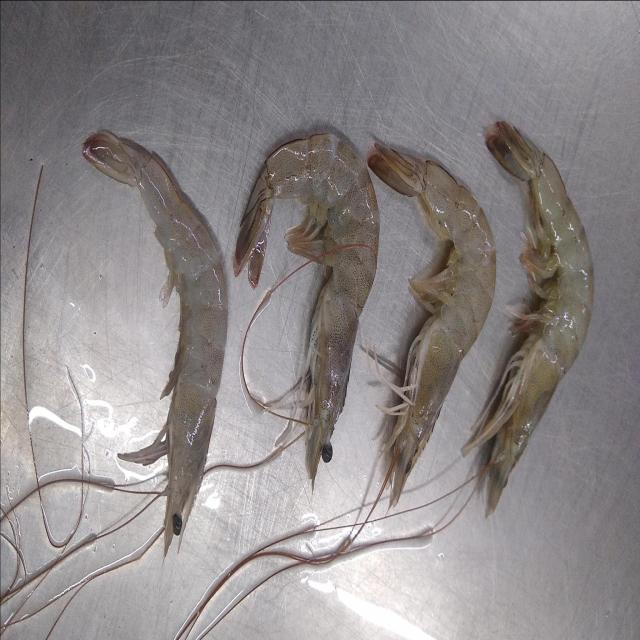shrimp: (82, 131, 228, 556), (462, 120, 594, 516), (232, 133, 379, 484), (368, 142, 496, 504)
